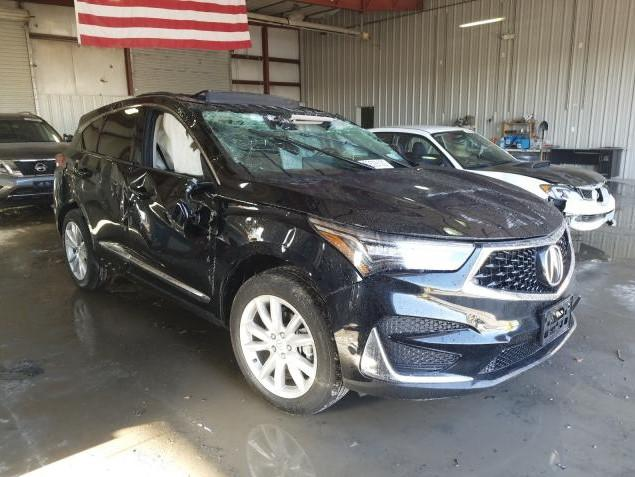Back-door: (80, 107, 146, 274)
Back-wheel: (62, 208, 110, 291)
Back-window: (97, 107, 143, 164), (83, 117, 105, 151)
Fender: (209, 194, 363, 322)
Front-bumper: (323, 242, 580, 399)
Front-door: (140, 107, 219, 310)
Front-wheel: (230, 266, 349, 416)
Front-window: (153, 112, 203, 178)
Grille: (462, 217, 575, 301)
Headlight: (308, 215, 477, 280)
Hood: (217, 165, 564, 238)
License-plate: (541, 296, 571, 346)
Quarter-panel: (54, 148, 83, 237)
Rocker-panel: (93, 250, 225, 328)
Roof: (78, 91, 325, 127)
Tail-light: (55, 153, 64, 170)
Windshield: (202, 110, 418, 186)
